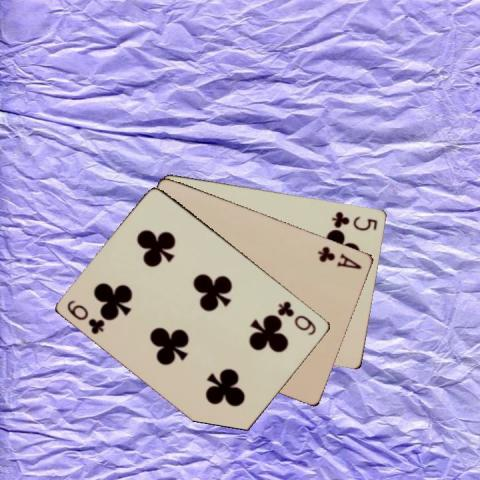5c: (330, 208, 380, 231)
6c: (275, 298, 318, 338), (64, 297, 107, 336)
Ac: (316, 243, 364, 270)
